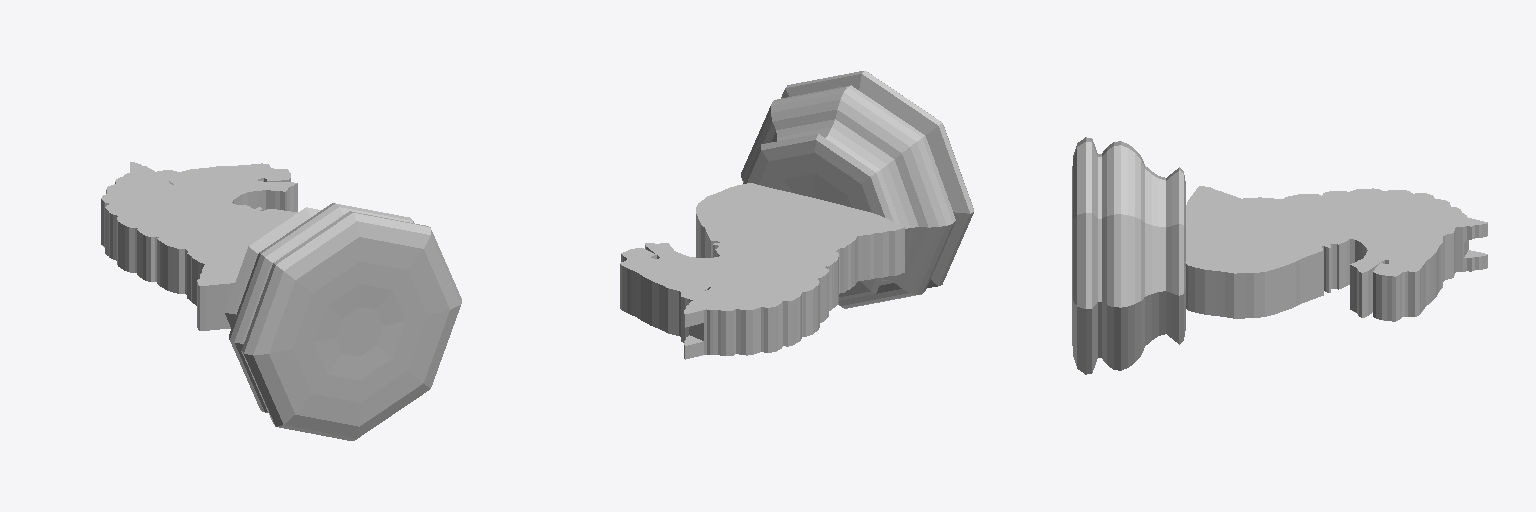
The model's file is knight.obj.
The picture shows the model from 3 angles: view 1: azimuth 30°, elevation 25°; view 2: azimuth 150°, elevation 25°; view 3: azimuth 270°, elevation 25°; orthographic projection.
Parts seen in each view (by area): view 1: polySurface4; view 2: polySurface4; view 3: polySurface4.
Boxes of the visible parts, box(x1,y1,x2,y2) form: polySurface4: box(101, 162, 461, 440); polySurface4: box(620, 71, 973, 359); polySurface4: box(1072, 137, 1487, 374).
Size of the model in its own units: 1.12 by 1.12 by 1.85.